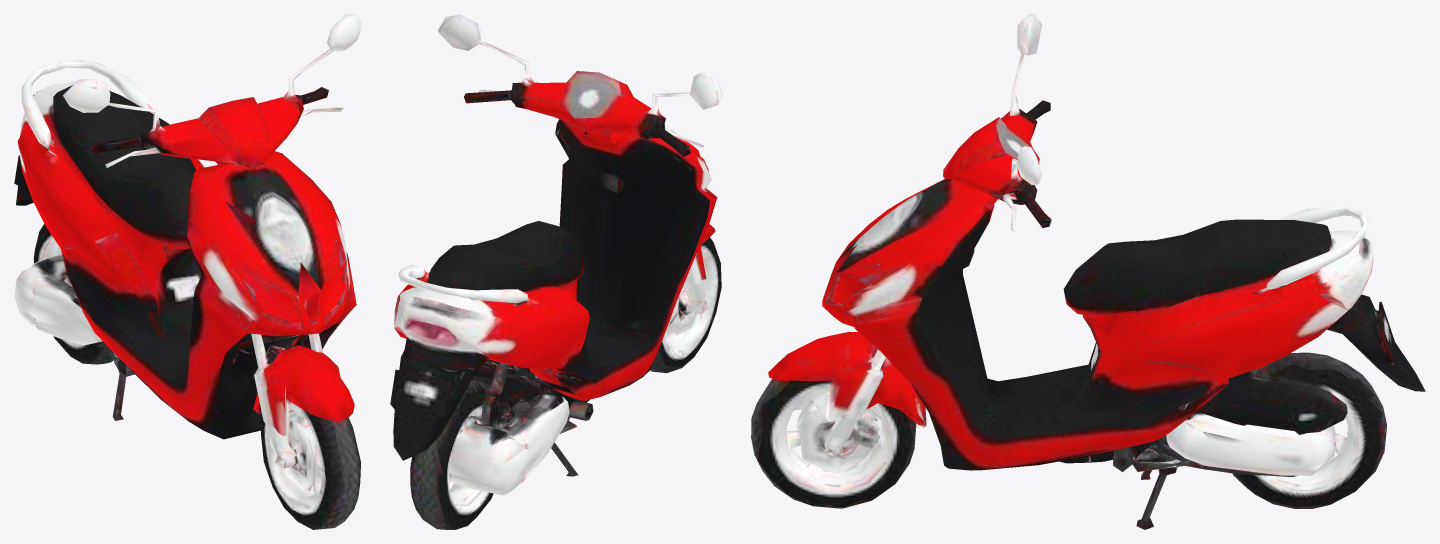
File: moto-scooter.glb
3 views of the same model, side by side, from view 1: azimuth 30°, elevation 25°; view 2: azimuth 150°, elevation 25°; view 3: azimuth 270°, elevation 25° (orthographic). The views are drawn at different scales.
Visible parts, largest first — view 1: body, wheel_F, head, wheel_R; view 2: body, wheel_R, wheel_F, tail; view 3: body, wheel_F, wheel_R, head.
Part boxes in pixels (x1=…): body: x1=14, y1=14, x2=361, y2=467; wheel_F: x1=261, y1=390, x2=360, y2=529; head: x1=257, y1=189, x2=314, y2=273; wheel_R: x1=31, y1=224, x2=69, y2=351; body: x1=390, y1=14, x2=722, y2=529; wheel_R: x1=410, y1=408, x2=510, y2=529; wheel_F: x1=658, y1=237, x2=721, y2=372; tail: x1=403, y1=318, x2=459, y2=351; body: x1=752, y1=14, x2=1425, y2=529; wheel_F: x1=751, y1=380, x2=906, y2=508; wheel_R: x1=1274, y1=363, x2=1386, y2=504; head: x1=854, y1=194, x2=925, y2=256.
Bounding box in the file's own units: 0.9738 × 1.29 × 1.85.
1 material, 1 textured.
